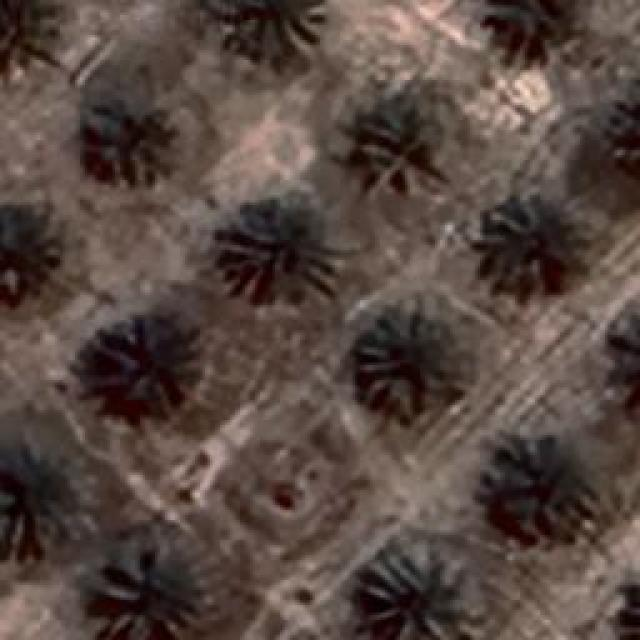PalmTree: (26, 94, 625, 250), (220, 192, 348, 302), (82, 317, 196, 415), (0, 440, 95, 550), (488, 432, 598, 526), (485, 190, 585, 288), (92, 550, 200, 638), (358, 308, 458, 402), (82, 88, 180, 182), (362, 558, 460, 638), (360, 108, 440, 192), (480, 0, 575, 62), (222, 0, 328, 55), (0, 0, 62, 70), (610, 297, 640, 413), (620, 299, 640, 415), (615, 573, 640, 640), (621, 568, 640, 640)
